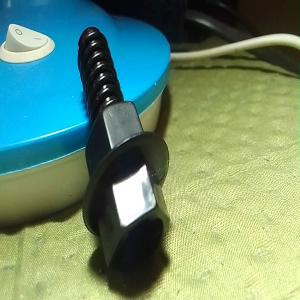parafuso: (76, 26, 170, 270)
